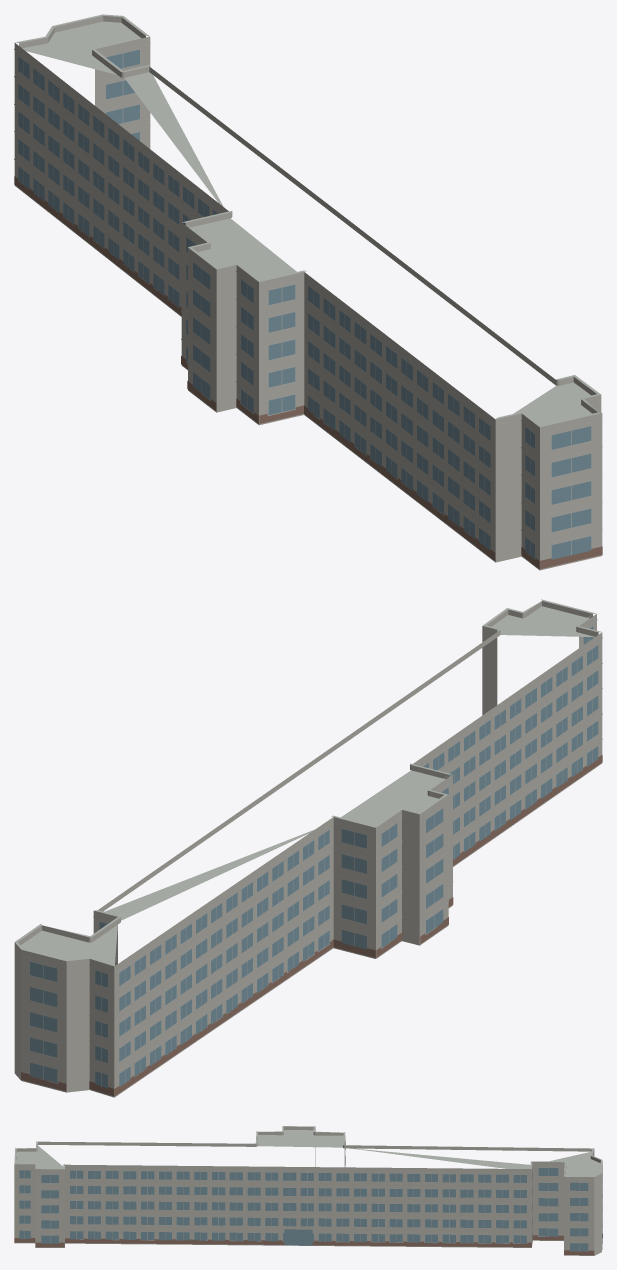
File: public-c32926b5-775f-40dc-bd8f-bac9661f36a9.glb
3 views of the same model, one above another, from view 1: azimuth 30°, elevation 25°; view 2: azimuth 150°, elevation 25°; view 3: azimuth 270°, elevation 25° (orthographic). The views are drawn at different scales.
Parts seen in each view (by area): view 1: public-c32926b5-775f-40dc-bd8f-bac9661f36a9; view 2: public-c32926b5-775f-40dc-bd8f-bac9661f36a9; view 3: public-c32926b5-775f-40dc-bd8f-bac9661f36a9.
Boxes of the visible parts, box(x1,y1,x2,y2) form: public-c32926b5-775f-40dc-bd8f-bac9661f36a9: box(14, 14, 602, 570); public-c32926b5-775f-40dc-bd8f-bac9661f36a9: box(14, 599, 602, 1097); public-c32926b5-775f-40dc-bd8f-bac9661f36a9: box(14, 1126, 602, 1255).
Bounding box in the file's own units: 21.33 × 15.25 × 103.
